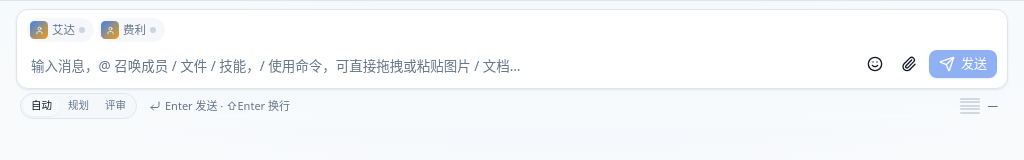
Scenario: Composer @ 自动补全 › ArrowDown 移动高亮，Enter 选中第二项
Type "@" into the text box at (512, 66), box x1=17 y1=44 x2=1007 y2=88
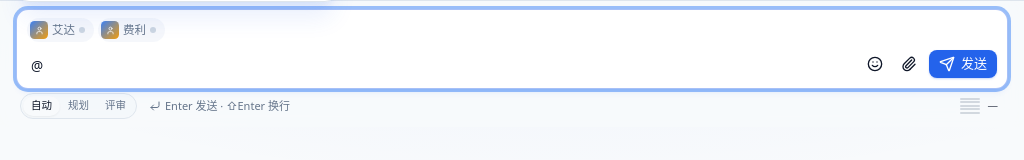
Press Arrowdown Enter
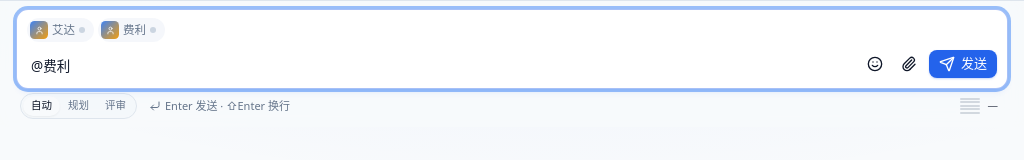
Expected: the text box holds "@费利 ", x1=17 y1=44 x2=1007 y2=88
